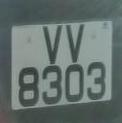0: (61, 61, 89, 106)
3: (39, 62, 65, 109), (85, 58, 109, 105)
8: (14, 60, 42, 112)
V: (39, 21, 65, 64), (63, 20, 89, 63)
